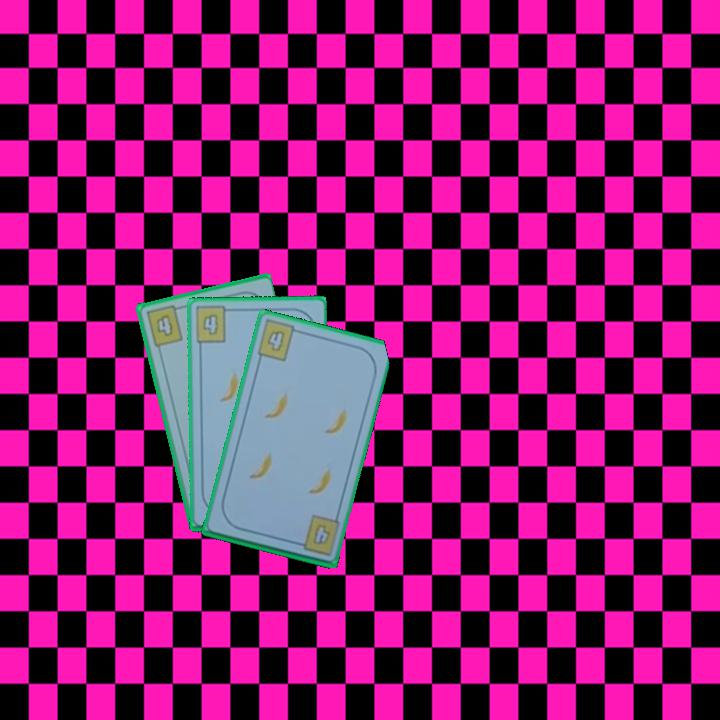4b: (253, 318, 304, 364), (142, 302, 185, 350), (191, 304, 235, 346), (309, 520, 333, 547)
